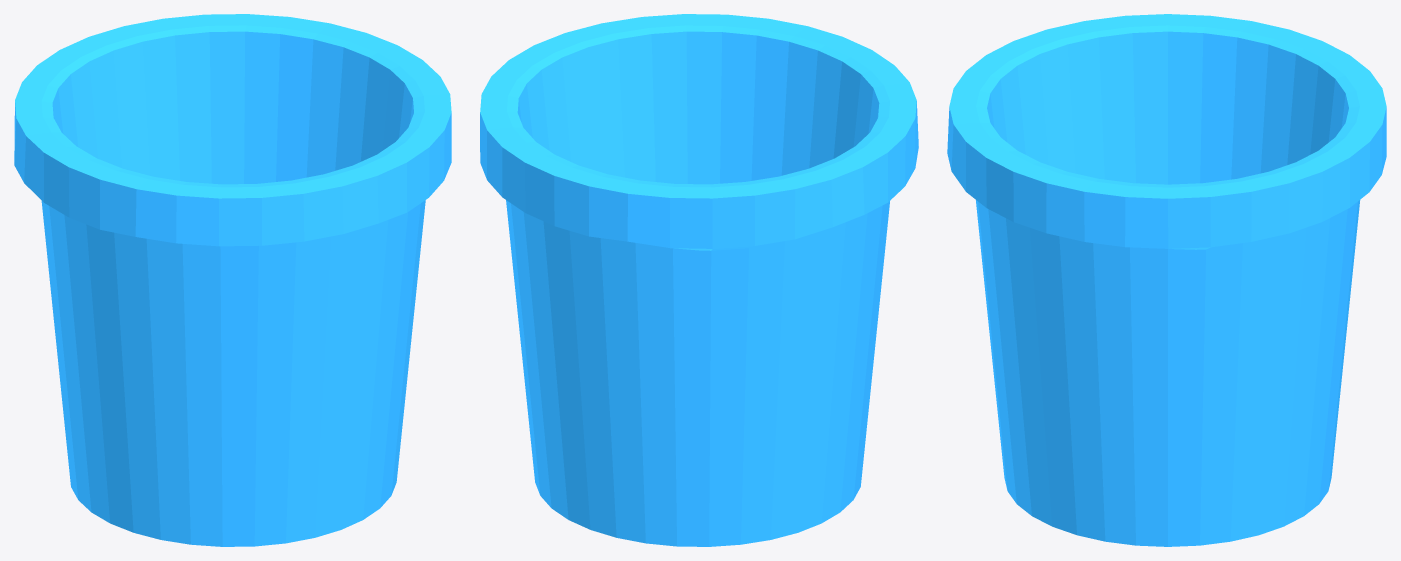
The model's file is kfcbucket.fbx.
3 renders of one model, left to right at view 1: azimuth 30°, elevation 25°; view 2: azimuth 150°, elevation 25°; view 3: azimuth 270°, elevation 25°, orthographic.
Visible parts, largest first — view 1: Cube; view 2: Cube; view 3: Cube.
Part boxes in pixels (x1=…): Cube: x1=14, y1=14, x2=451, y2=546; Cube: x1=480, y1=14, x2=918, y2=546; Cube: x1=947, y1=14, x2=1386, y2=546.
Bounding box in the file's own units: 167 × 157 × 168.
